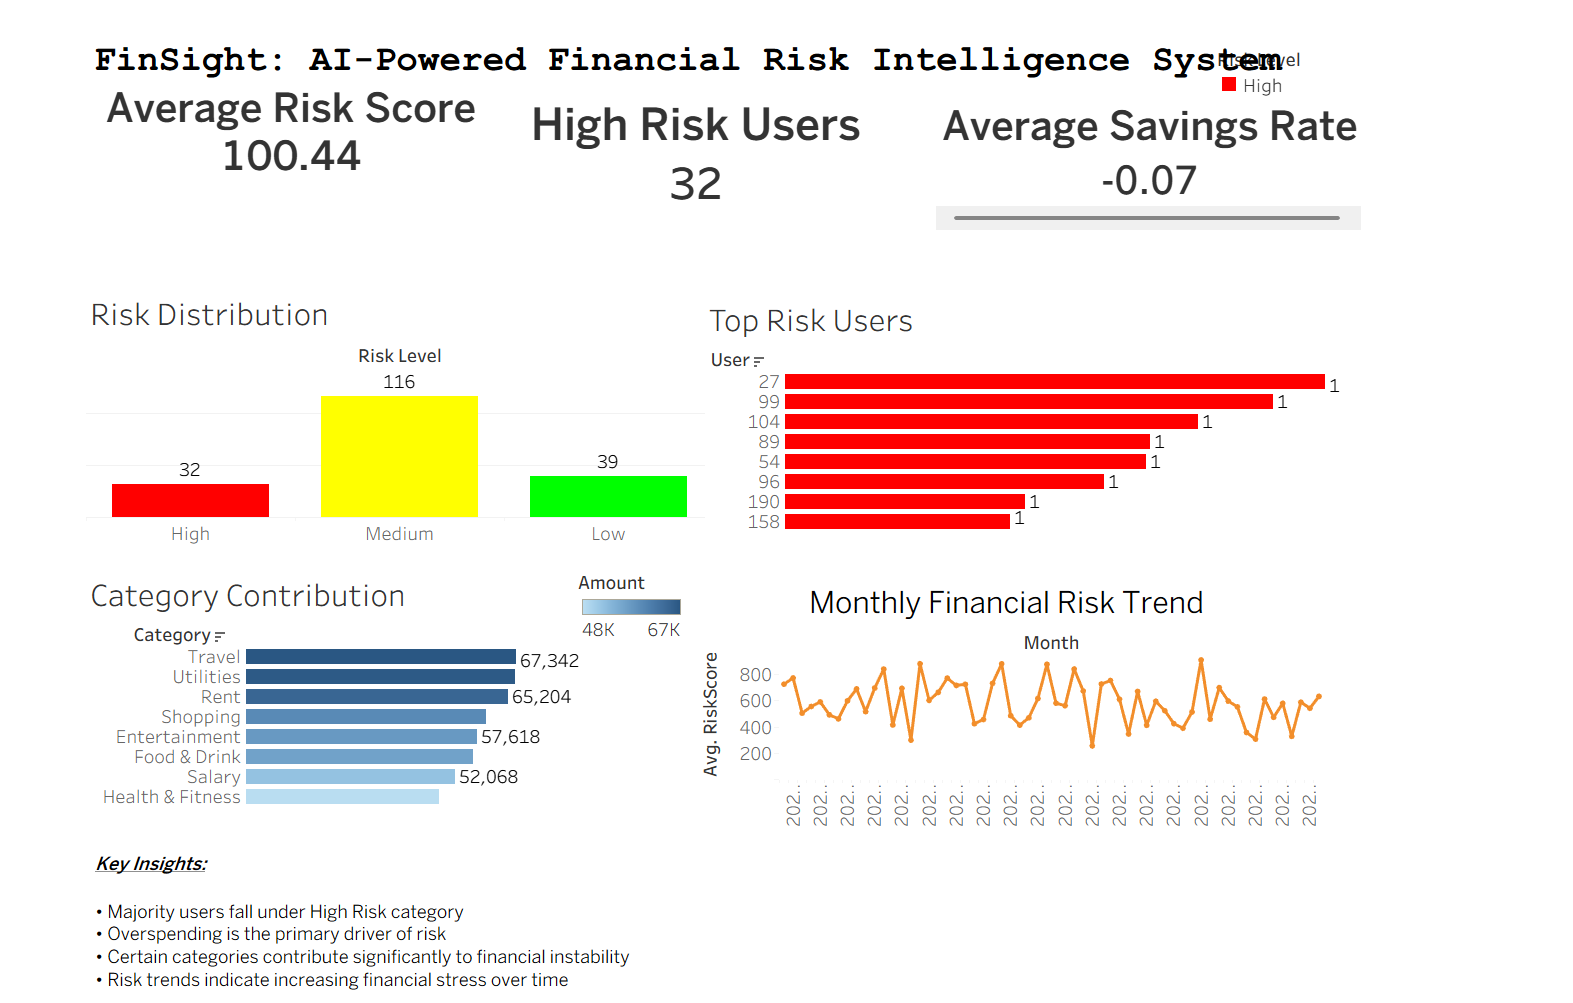

What the dashboard file says about the page in this screenshot:
{"tool":"tableau","page":{"name":"FinSight Dashboard","canvas":[1300,800],"ordinal":0},"visuals":[{"type":"text","box":[9,0,1288,54]},{"type":"legend","title":"Risk Distribution","param":"[federated.1f9s2740q6qhyb1gl5xvl1m0injt].[none:RiskLevel:nk]","box":[1132,8,160,109]},{"type":"worksheet","title":"KPI -avg Risk","mark":"Automatic","box":[14,47,433,104]},{"type":"worksheet","title":"KPI - High Risk Users","mark":"Automatic","box":[400,60,433,121]},{"type":"worksheet","title":"KPI - Avg Savings Rate","mark":"Automatic","box":[851,64,433,266]},{"type":"worksheet","title":"Risk Distribution","mark":"Automatic","rows":["User"],"cols":["RiskLevel"],"box":[1,250,635,266]},{"type":"worksheet","title":"Top Risk Users","mark":"Automatic","rows":["User"],"cols":["RiskScore"],"box":[620,256,674,266]},{"type":"worksheet","title":"Category Contribution","mark":"Automatic","rows":["Category"],"cols":["Amount"],"box":[5,535,591,266]},{"type":"legend","title":"Category Contribution","param":"[federated.0pv9wtm087njaq18wpa961echo79].[sum:Amount:qk]","box":[497,535,107,100]},{"type":"worksheet","title":"Monthly Risk Trend","mark":"Line","rows":["RiskScore"],"cols":["Month"],"box":[605,541,641,258]}]}

Visuals, with their boxes on the page's 1300x800 design canvas (x1, y1, x2, y2). These are canvas units, not pixel positions in the 1573x1003 screenshot, which may show the page scaled, cropped or inside an application window:
text: box=[9, 0, 1297, 54]
"Risk Distribution" legend: box=[1132, 8, 1292, 117]
"KPI -avg Risk" worksheet: box=[14, 47, 447, 151]
"KPI - High Risk Users" worksheet: box=[400, 60, 833, 181]
"KPI - Avg Savings Rate" worksheet: box=[851, 64, 1284, 330]
"Risk Distribution" worksheet: box=[1, 250, 636, 516]
"Top Risk Users" worksheet: box=[620, 256, 1294, 522]
"Category Contribution" worksheet: box=[5, 535, 596, 801]
"Category Contribution" legend: box=[497, 535, 604, 635]
"Monthly Risk Trend" worksheet (Line marks): box=[605, 541, 1246, 799]
